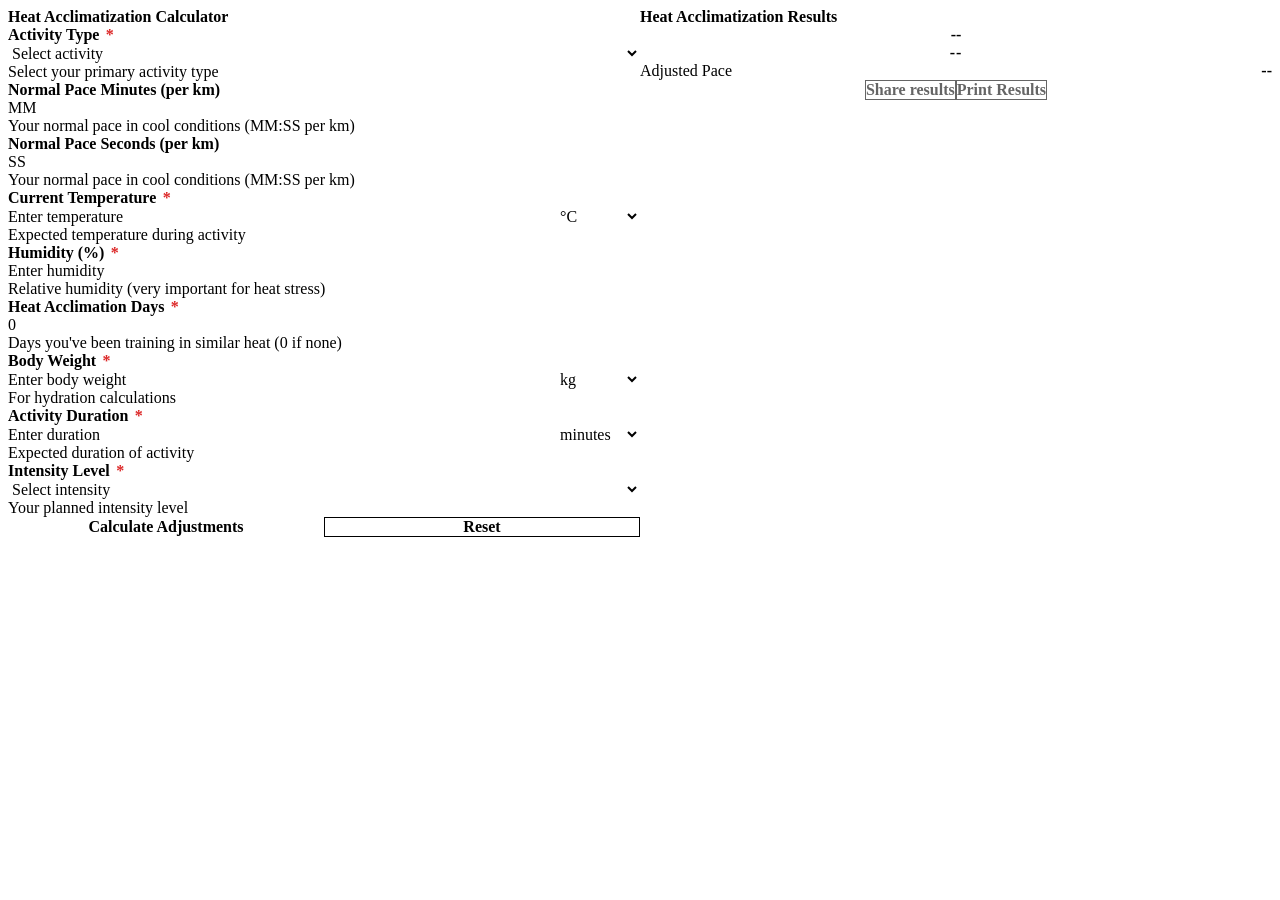
Scenario: HeatAcclimatizationCalculator › validates with the source messages before calculating
Click the button "Calculate Adjustments".
click(166, 527)  # box [8, 517, 324, 537]
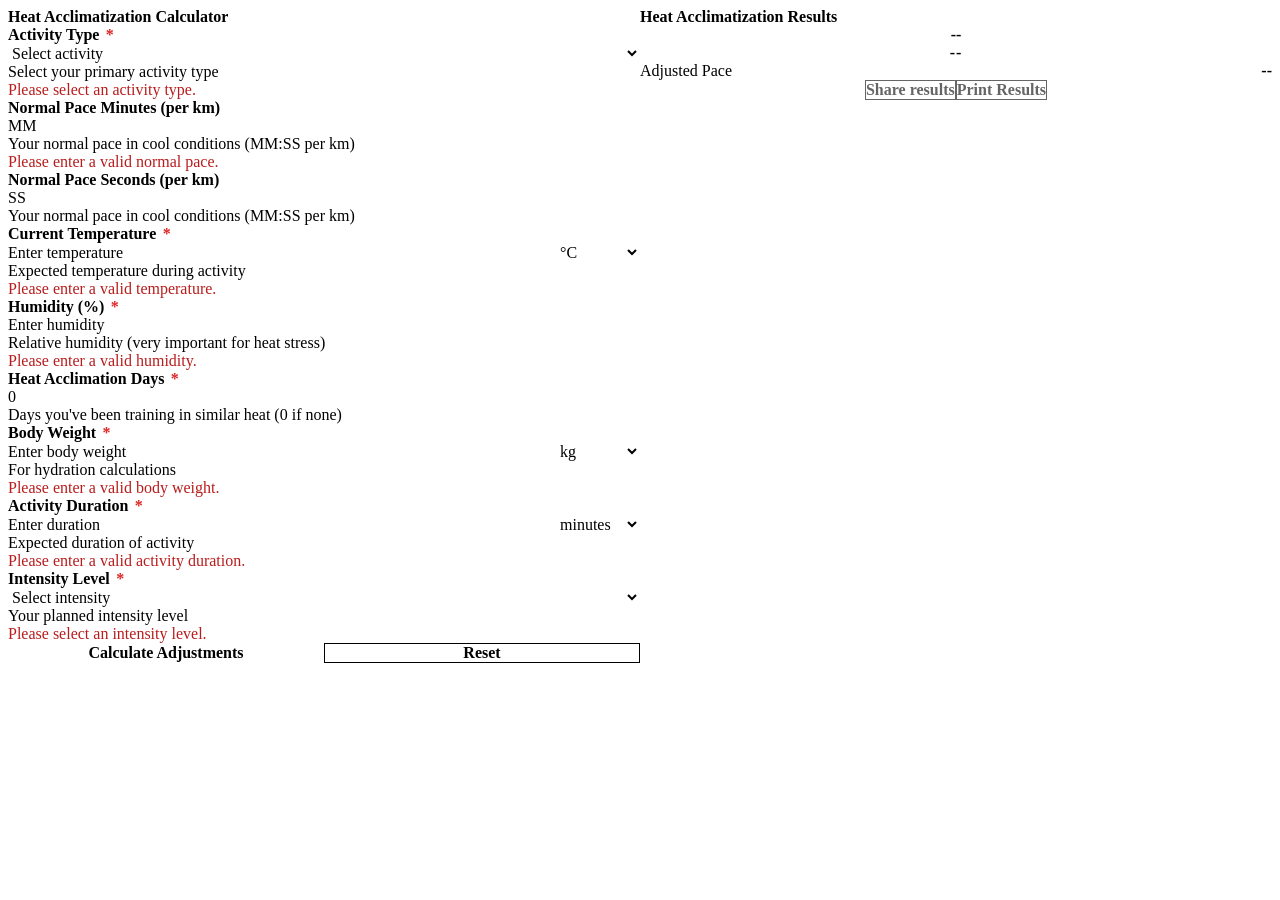
Expected: the text "Please select an activity type." is shown, [8, 81, 196, 98]
Expected: the text "Please enter a valid normal pace." is shown, [8, 153, 219, 170]
Expected: the text "Please enter a valid temperature." is shown, [8, 280, 216, 297]
